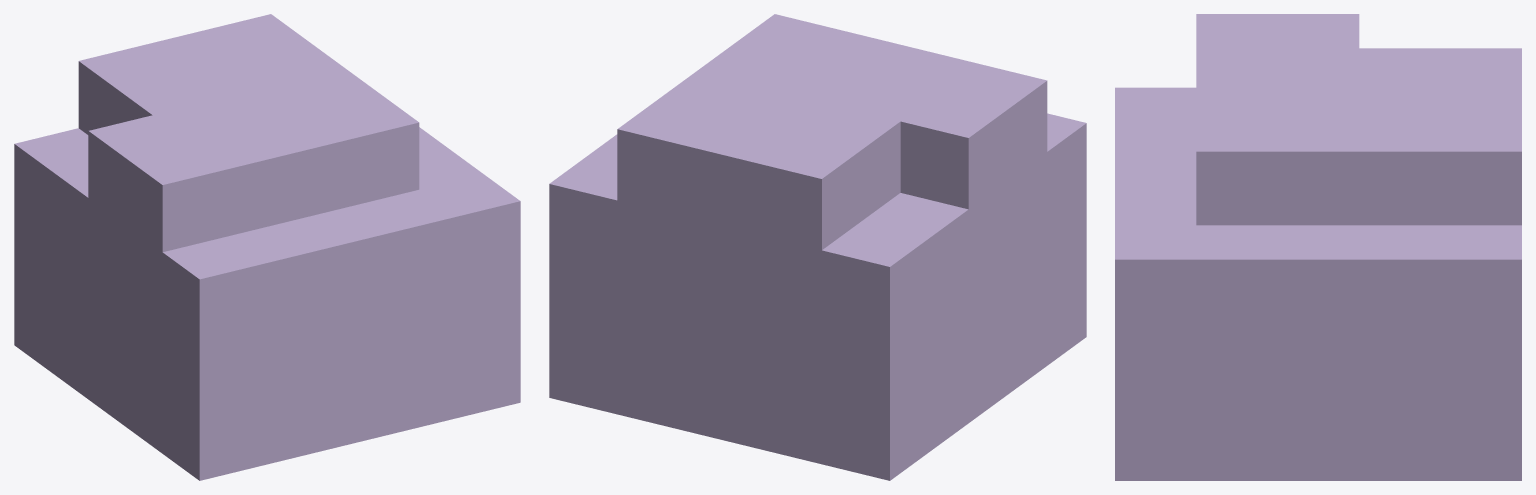
File: Rock1.obj
3 views of the same model, side by side, from view 1: azimuth 30°, elevation 25°; view 2: azimuth 150°, elevation 25°; view 3: azimuth 270°, elevation 25° (orthographic). The views are drawn at different scales.
Size of the model in its own units: 0.5 by 0.4 by 0.5.
1 material, 1 textured.
